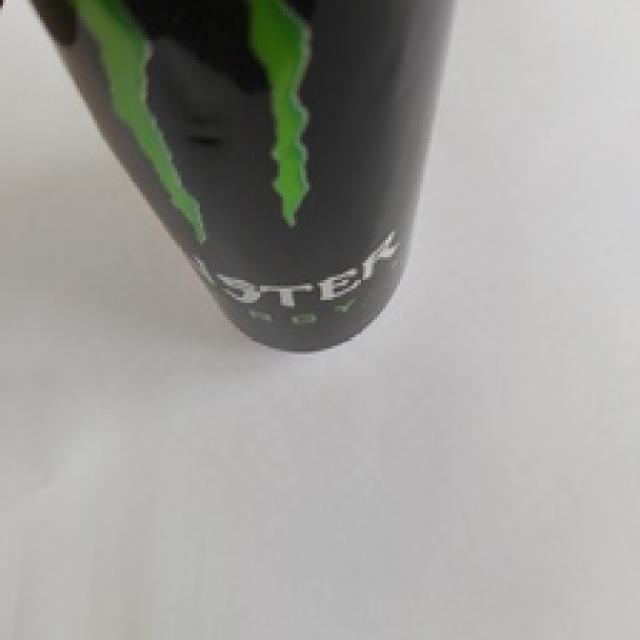recyclable: (29, 0, 456, 355)
